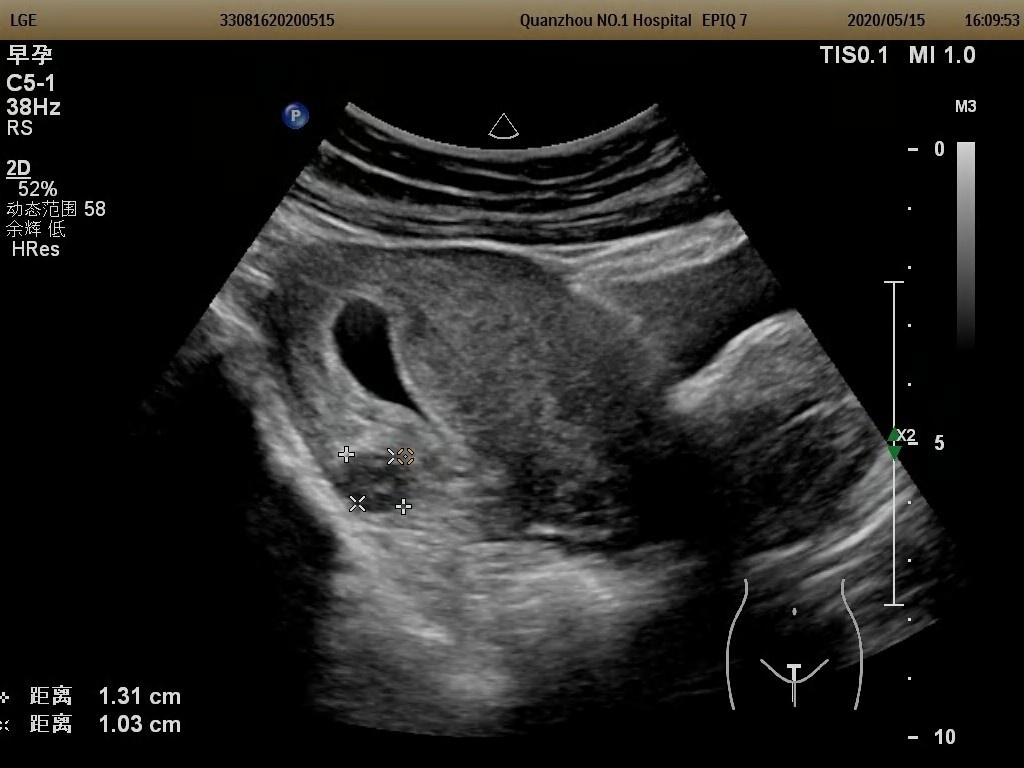肌瘤: (349, 457, 407, 510)
